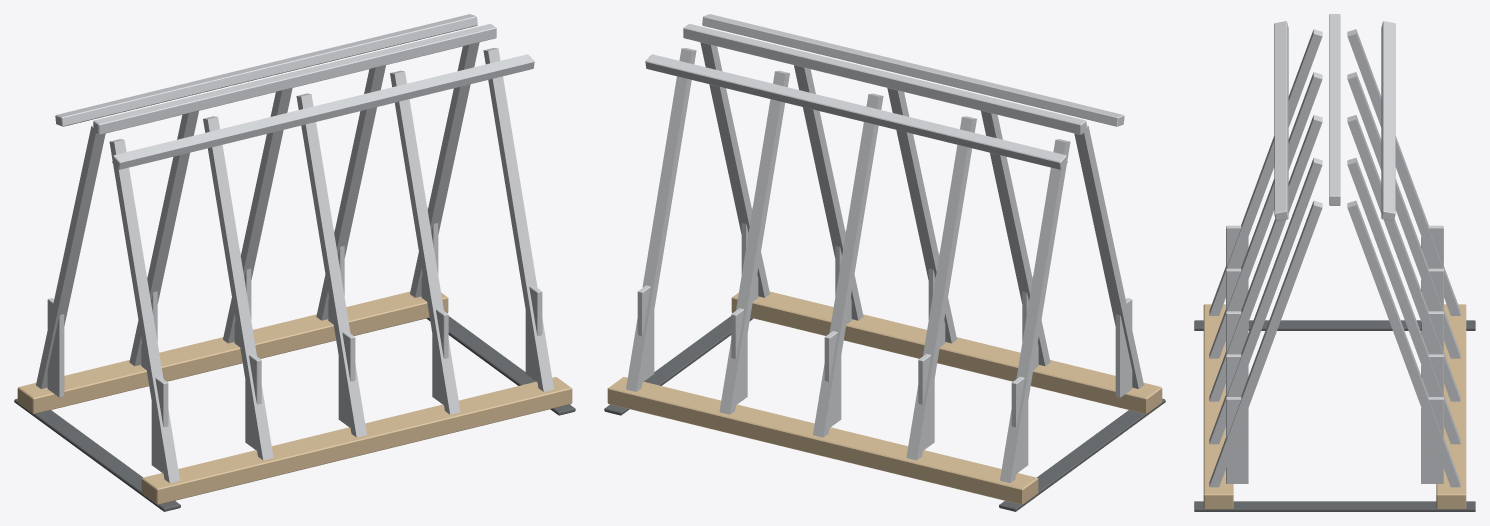
3 renders of one model, left to right at view 1: azimuth 30°, elevation 25°; view 2: azimuth 150°, elevation 25°; view 3: azimuth 270°, elevation 25°, orthographic. The views are drawn at different scales.
Parts seen in each view (by area): view 1: sheet-material-a-frame; view 2: sheet-material-a-frame; view 3: sheet-material-a-frame.
Boxes of the visible parts, x1,y1,x2,y2 form: sheet-material-a-frame: (14,14,575,511); sheet-material-a-frame: (604,14,1165,511); sheet-material-a-frame: (1194,14,1475,511).
Size of the model in its own units: 2.4 by 1.84 by 1.5.
